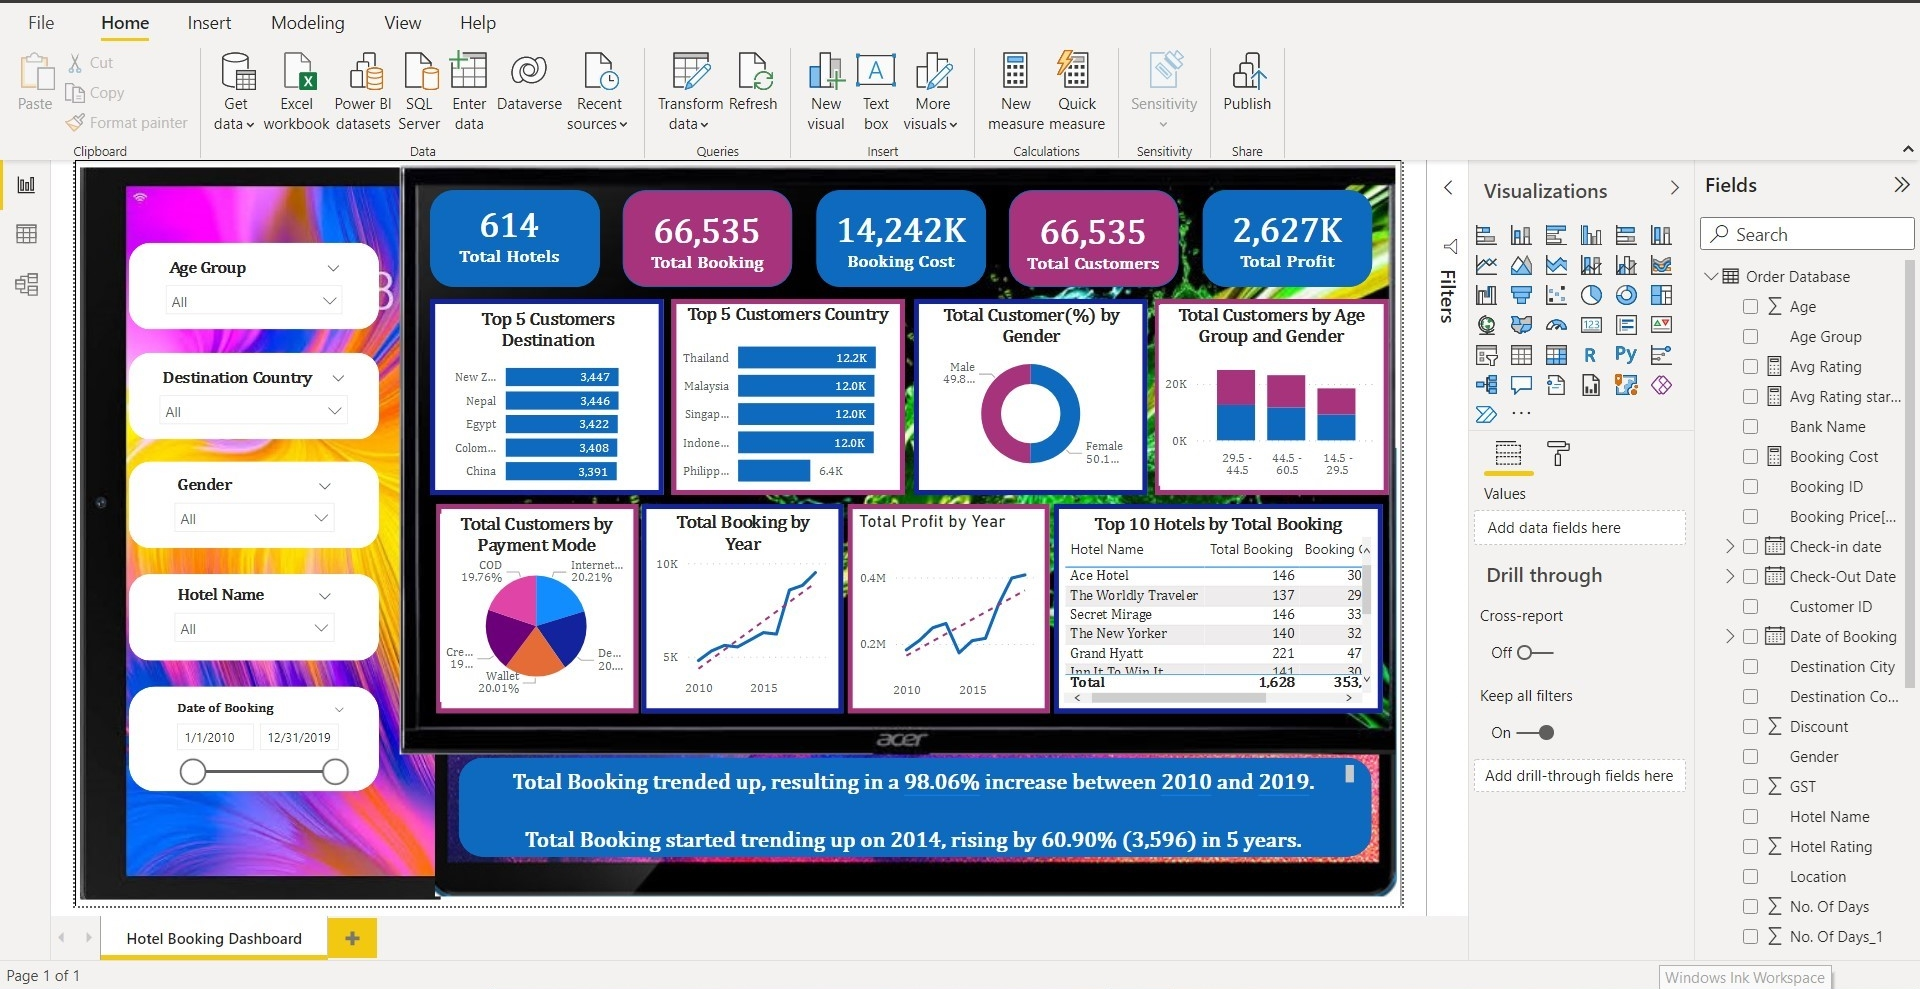

The dashboard page shown, as its layout file describes it:
{"tool":"powerbi","page":{"name":"Hotel Booking Dashboard","canvas":[1280,720],"ordinal":0},"visuals":[{"type":"shape","box":[0,0,1280,720.4],"z":0},{"type":"image","box":[0,0,357.5,720.4],"z":1000},{"type":"image","box":[342.3,269.5,937.7,451],"z":2000},{"type":"image","box":[308,0,972,578.8],"z":3000},{"type":"shape","box":[52,79.7,242,83.9],"z":4000},{"type":"slicer","fields":{"Values":["Order Database.Age Group"]},"box":[77,90.7,191.1,64.6],"z":5000},{"type":"shape","box":[52,186.1,242,83.9],"z":6000},{"type":"shape","box":[52,398.7,242,83.9],"z":7000},{"type":"shape","box":[52,291,242,83.9],"z":8000},{"type":"slicer","fields":{"Values":["Order Database.Destination Country"]},"box":[71.5,196.6,202.1,63.2],"z":9000},{"type":"slicer","fields":{"Values":["Order Database.Gender"]},"box":[85.2,299.7,174.6,66],"z":10000},{"type":"shape","box":[52,507.8,242,101.7],"z":11000},{"type":"slicer","fields":{"Values":["Order Database.Hotel Name"]},"box":[85.2,407,174.6,67.4],"z":12000},{"type":"slicer","fields":{"Values":["Order Database.Date of Booking"]},"box":[85.2,516.9,187,103.1],"z":13000},{"type":"shape","box":[528.6,28.9,163.6,93.5],"z":14000},{"type":"shape","box":[714.9,28.9,163.6,93.5],"z":15000},{"type":"shape","box":[901.2,28.9,163.6,93.5],"z":16000},{"type":"shape","box":[1087.5,28.9,163.6,93.5],"z":17000},{"type":"shape","box":[342.3,28.9,163.6,93.5],"z":18000},{"type":"card","fields":{"Values":["Order Database.Total Hotels"]},"box":[348.1,12.9,140.2,114.1],"z":19000},{"type":"card","fields":{"Values":["Order Database.Total Booking"]},"box":[540.3,17.9,138.9,115.5],"z":20000},{"type":"card","fields":{"Values":["Order Database.Booking Cost"]},"box":[727.3,17.9,138.9,114.1],"z":21000},{"type":"card","fields":{"Values":["Order Database.Total Customers"]},"box":[912.9,19.2,138.9,114.1],"z":22000},{"type":"card","fields":{"Values":["Order Database.Total Profit"]},"box":[1099.9,17.9,138.9,114.1],"z":23000},{"type":"shape","box":[342.7,133.5,225.7,189.9],"z":24000},{"type":"shape","box":[1041.9,133.5,225.7,189.9],"z":25000},{"type":"shape","box":[808.8,133.5,225.7,189.9],"z":26000},{"type":"shape","box":[575.8,133.5,225.7,189.9],"z":27000},{"type":"clusteredBarChart","title":"Top 5 Customers Destination","fields":{"Category":["Order Database.Destination Country"],"Y":["Order Database.Total Customers"]},"box":[348.2,143.1,214.7,180.3],"z":28000},{"type":"clusteredBarChart","title":"Top 5 Customers Country","fields":{"Category":["Order Database.Origin Country"],"Y":["Order Database.Total Customers"]},"box":[567.1,139,240.9,188.6],"z":29000},{"type":"donutChart","title":"Total Customer(%) by Gender","fields":{"Category":["Order Database.Gender"],"Y":["Order Database.Total Customers"]},"box":[823.1,140.4,199.6,174.8],"z":30000},{"type":"columnChart","fields":{"Y":["Order Database.Total Customers"],"Series":["Order Database.Gender"],"Category":["Order Database.Age Group"]},"box":[1046,140.4,216.1,174.8],"z":31000},{"type":"shape","box":[745.5,331.7,195.4,202.3],"z":32000},{"type":"shape","box":[944.2,331.7,317.9,202.3],"z":33000},{"type":"shape","box":[546.9,331.7,195.4,202.3],"z":34000},{"type":"shape","box":[348.2,331.7,195.4,202.3],"z":35000},{"type":"pieChart","fields":{"Category":["Order Database.Payment Mode"],"Y":["Order Database.Total Customers"]},"box":[352.3,341.3,185.8,181.7],"z":36000},{"type":"lineChart","fields":{"Y":["Order Database.Total Booking"],"Category":["Order Database.Date of Booking.Variation.Date Hierarchy.Year","Order Database.Date of Booking.Variation.Date Hierarchy.Quarter","Order Database.Date of Booking.Variation.Date Hierarchy.Month","Order Database.Date of Booking.Variation.Date Hierarchy.Day"]},"box":[554.7,340,178.9,184.4],"z":37000},{"type":"lineChart","fields":{"Category":["Order Database.Date of Booking.Variation.Date Hierarchy.Year","Order Database.Date of Booking.Variation.Date Hierarchy.Quarter","Order Database.Date of Booking.Variation.Date Hierarchy.Month","Order Database.Date of Booking.Variation.Date Hierarchy.Day"],"Y":["Order Database.Total Profit"]},"box":[751.5,337.2,184.4,188.6],"z":38000},{"type":"tableEx","title":"Top 10 Hotels by Total Booking","fields":{"Values":["Order Database.Hotel Name","Order Database.Total Booking","Order Database.Booking Cost","Avg(Order Database.Hotel Rating)"]},"box":[949.7,341.3,306.9,187.2],"z":39000},{"type":"shape","box":[370.2,576.7,880.9,96.3],"z":40000},{"type":"textbox","box":[385.4,579.4,853.3,93.6],"z":40001}]}

Visuals, with their boxes on the page's 1280x720 design canvas (x1, y1, x2, y2). These are canvas units, not pixel positions in the 1920x989 screenshot, which may show the page scaled, cropped or inside an application window:
shape: <bbox>0, 0, 1280, 720</bbox>
image: <bbox>0, 0, 358, 720</bbox>
image: <bbox>342, 270, 1280, 720</bbox>
image: <bbox>308, 0, 1280, 579</bbox>
shape: <bbox>52, 80, 294, 164</bbox>
slicer - Order Database.Age Group: <bbox>77, 91, 268, 155</bbox>
shape: <bbox>52, 186, 294, 270</bbox>
shape: <bbox>52, 399, 294, 483</bbox>
shape: <bbox>52, 291, 294, 375</bbox>
slicer - Order Database.Destination Country: <bbox>72, 197, 274, 260</bbox>
slicer - Order Database.Gender: <bbox>85, 300, 260, 366</bbox>
shape: <bbox>52, 508, 294, 610</bbox>
slicer - Order Database.Hotel Name: <bbox>85, 407, 260, 474</bbox>
slicer - Order Database.Date of Booking: <bbox>85, 517, 272, 620</bbox>
shape: <bbox>529, 29, 692, 122</bbox>
shape: <bbox>715, 29, 878, 122</bbox>
shape: <bbox>901, 29, 1065, 122</bbox>
shape: <bbox>1088, 29, 1251, 122</bbox>
shape: <bbox>342, 29, 506, 122</bbox>
card - Order Database.Total Hotels: <bbox>348, 13, 488, 127</bbox>
card - Order Database.Total Booking: <bbox>540, 18, 679, 133</bbox>
card - Order Database.Booking Cost: <bbox>727, 18, 866, 132</bbox>
card - Order Database.Total Customers: <bbox>913, 19, 1052, 133</bbox>
card - Order Database.Total Profit: <bbox>1100, 18, 1239, 132</bbox>
shape: <bbox>343, 134, 568, 323</bbox>
shape: <bbox>1042, 134, 1268, 323</bbox>
shape: <bbox>809, 134, 1034, 323</bbox>
shape: <bbox>576, 134, 802, 323</bbox>
"Top 5 Customers Destination" clusteredBarChart: <bbox>348, 143, 563, 323</bbox>
"Top 5 Customers Country" clusteredBarChart: <bbox>567, 139, 808, 328</bbox>
"Total Customer(%) by Gender" donutChart: <bbox>823, 140, 1023, 315</bbox>
columnChart - Order Database.Total Customers x Order Database.Gender: <bbox>1046, 140, 1262, 315</bbox>
shape: <bbox>746, 332, 941, 534</bbox>
shape: <bbox>944, 332, 1262, 534</bbox>
shape: <bbox>547, 332, 742, 534</bbox>
shape: <bbox>348, 332, 544, 534</bbox>
pieChart - Order Database.Payment Mode x Order Database.Total Customers: <bbox>352, 341, 538, 523</bbox>
lineChart - Order Database.Total Booking x Order Database.Date of Booking.Variation.Date Hierarchy.Year: <bbox>555, 340, 734, 524</bbox>
lineChart - Order Database.Date of Booking.Variation.Date Hierarchy.Year x Order Database.Date of Booking.Variation.Date Hierarchy.Quarter: <bbox>752, 337, 936, 526</bbox>
"Top 10 Hotels by Total Booking" tableEx: <bbox>950, 341, 1257, 528</bbox>
shape: <bbox>370, 577, 1251, 673</bbox>
textbox: <bbox>385, 579, 1239, 673</bbox>
